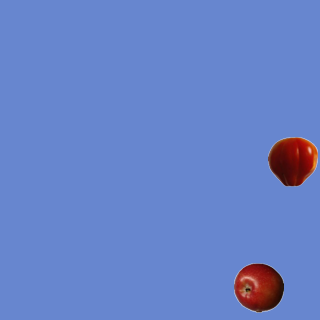Apple Braeburn: (233, 262, 283, 312)
Tomato 1: (267, 136, 317, 186)
